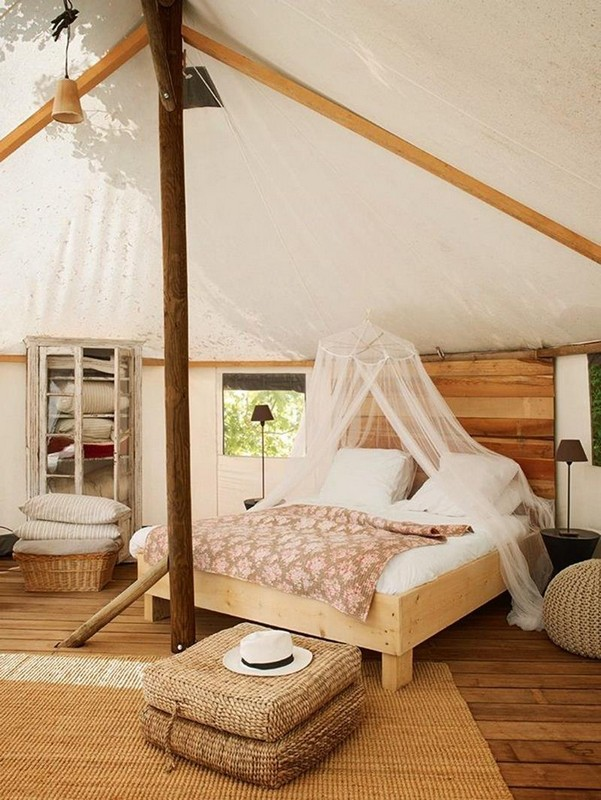bed: (189, 349, 546, 695)
lamp: (547, 440, 593, 534), (245, 400, 283, 507)
